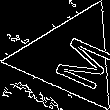M_NW: (34, 25, 107, 89)
